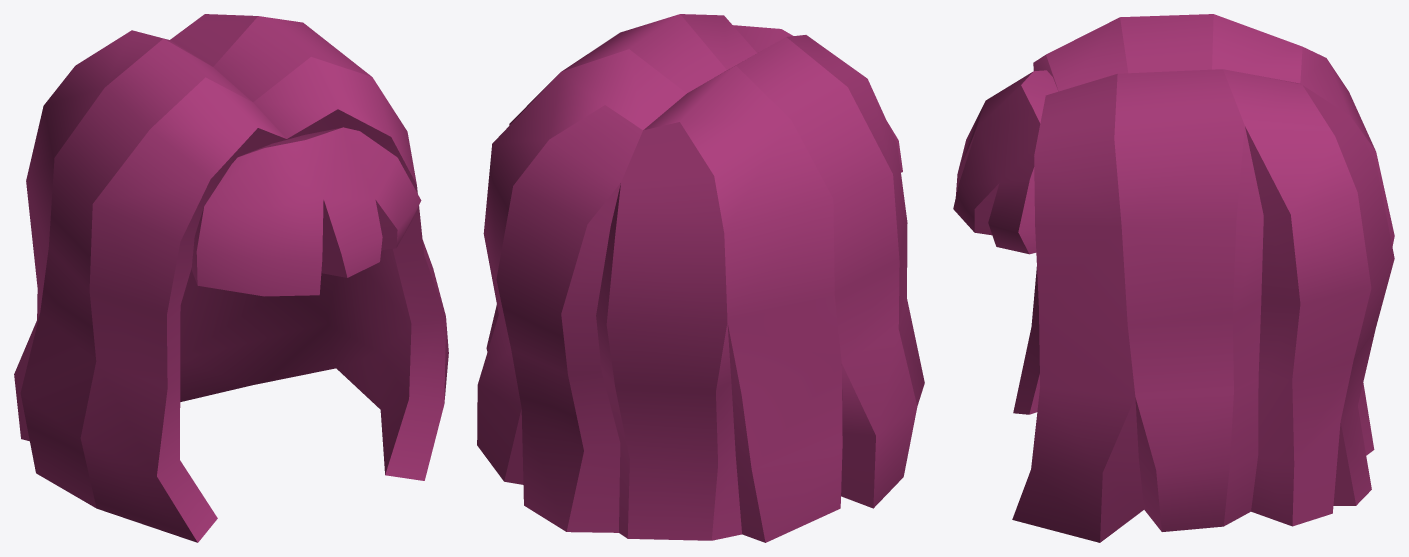
The model's file is Female_Hairs_07_v2.fbx.
3 views of the same model, side by side, from view 1: azimuth 30°, elevation 25°; view 2: azimuth 150°, elevation 25°; view 3: azimuth 270°, elevation 25° (orthographic). The views are drawn at different scales.
Visible parts, largest first — view 1: Female_Hairs_07_v2; view 2: Female_Hairs_07_v2; view 3: Female_Hairs_07_v2.
Part boxes in pixels (x1,y1,x2,y2): Female_Hairs_07_v2: (14,14,448,542); Female_Hairs_07_v2: (477,14,924,542); Female_Hairs_07_v2: (953,14,1394,542).
Size of the model in its own units: 67.03 by 70.64 by 64.57.
